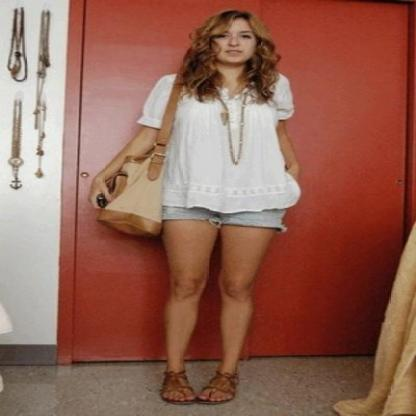bag: (76, 80, 198, 250)
shirt: (138, 75, 300, 213)
shoe: (158, 368, 240, 404)
shorts: (160, 205, 285, 229)
